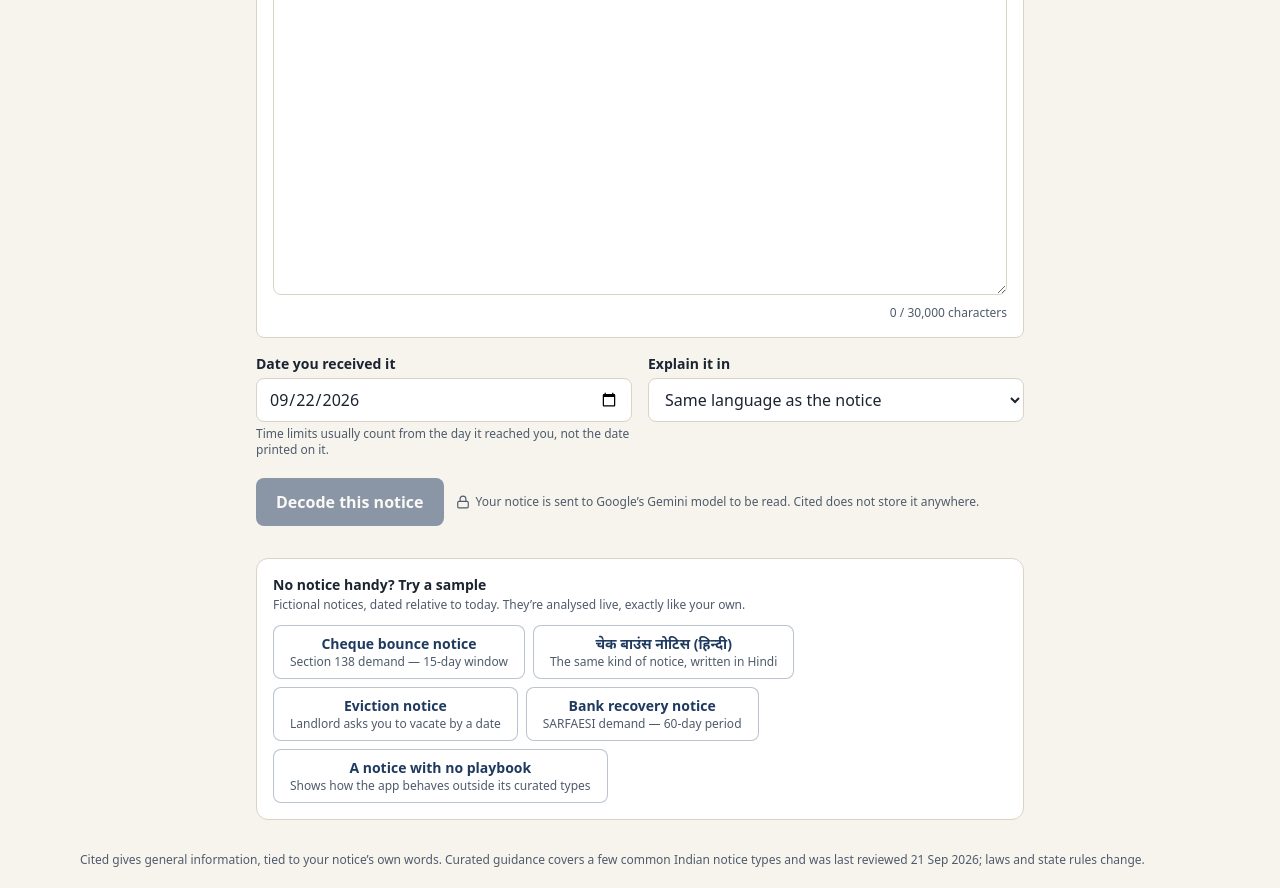
Scenario: Ask about this notice › appears with a labelled input and starter questions for the detected notice type
(page scrolled)
Click the button "Cheque bounce notice Section 138 demand — 15-day window" at (399, 652), box [273,625,525,679]
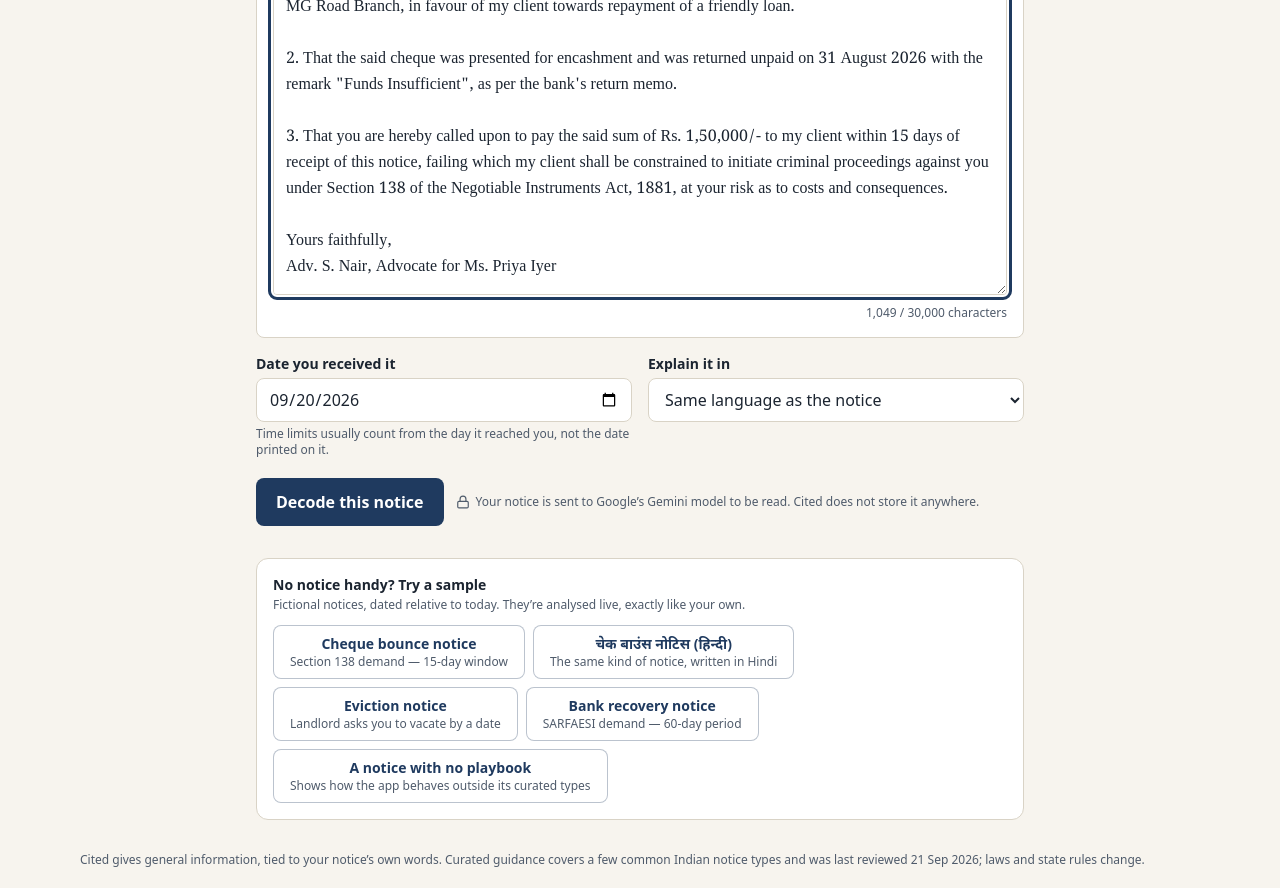
Click the button "Decode this notice" at (350, 502), box [256,478,444,526]
(page scrolled)
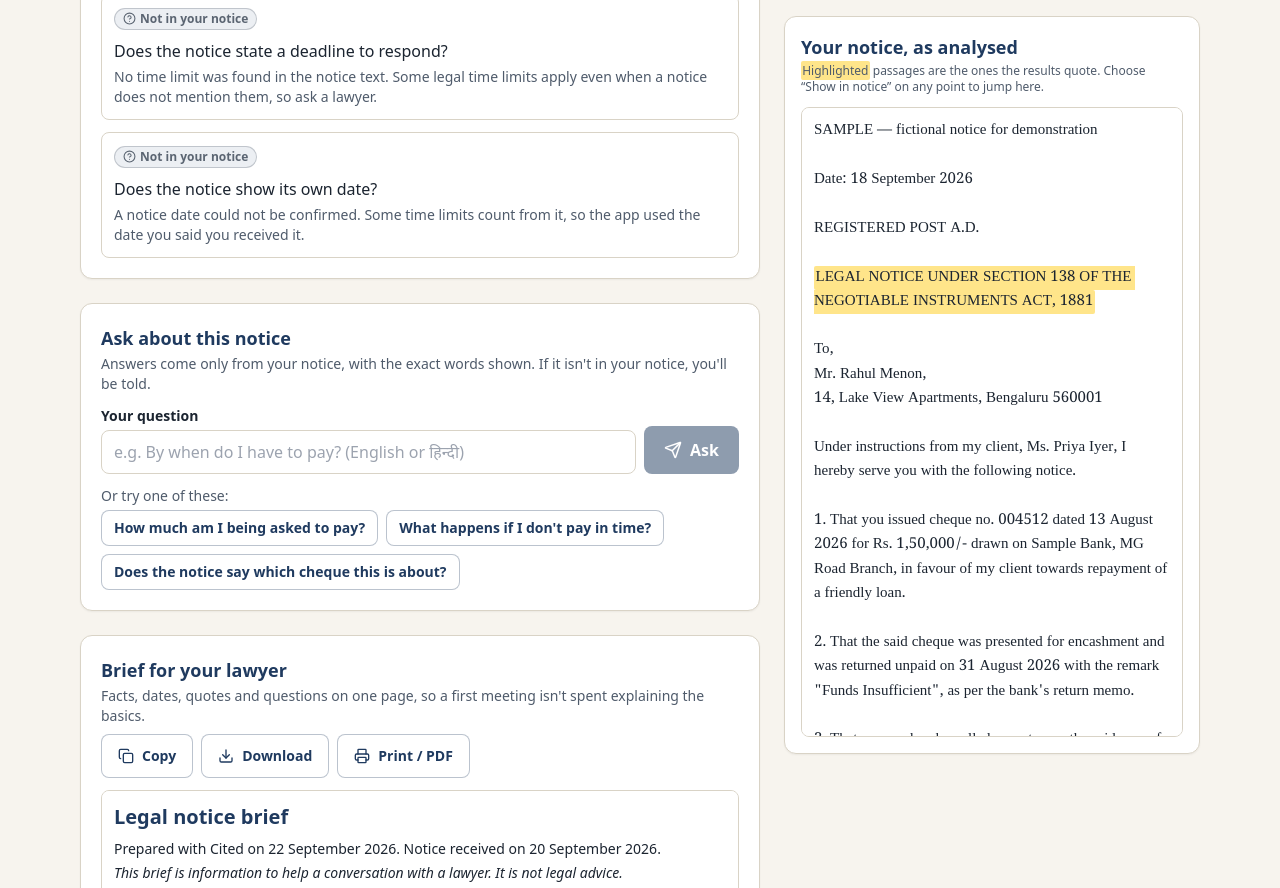
Expected: the button "How much am I being asked to pay?" is shown, [101,510,378,546]
Expected: the button "What happens if I don't pay in time?" is shown, [386,510,664,546]
Expected: the button "Ask" is disabled, [644,426,739,474]
